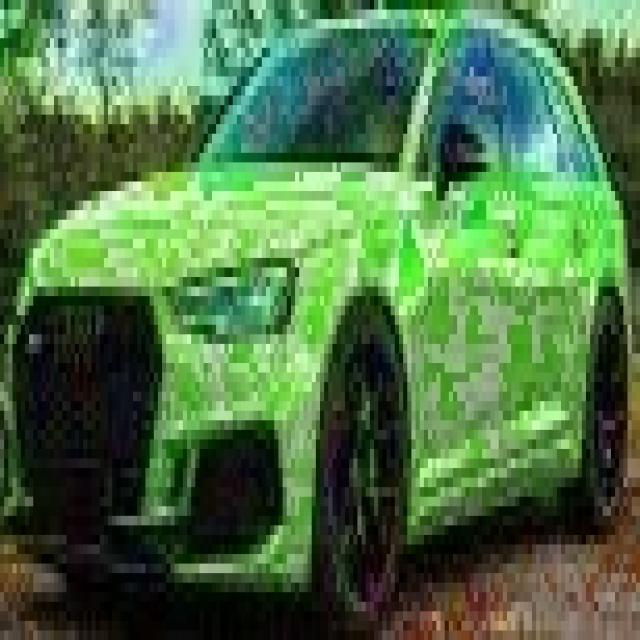green: (2, 4, 634, 626)
